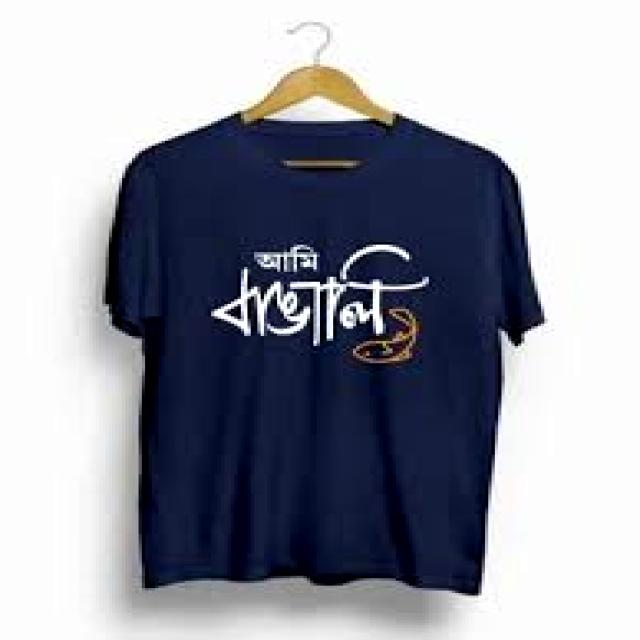top-wear: (103, 110, 541, 595)
